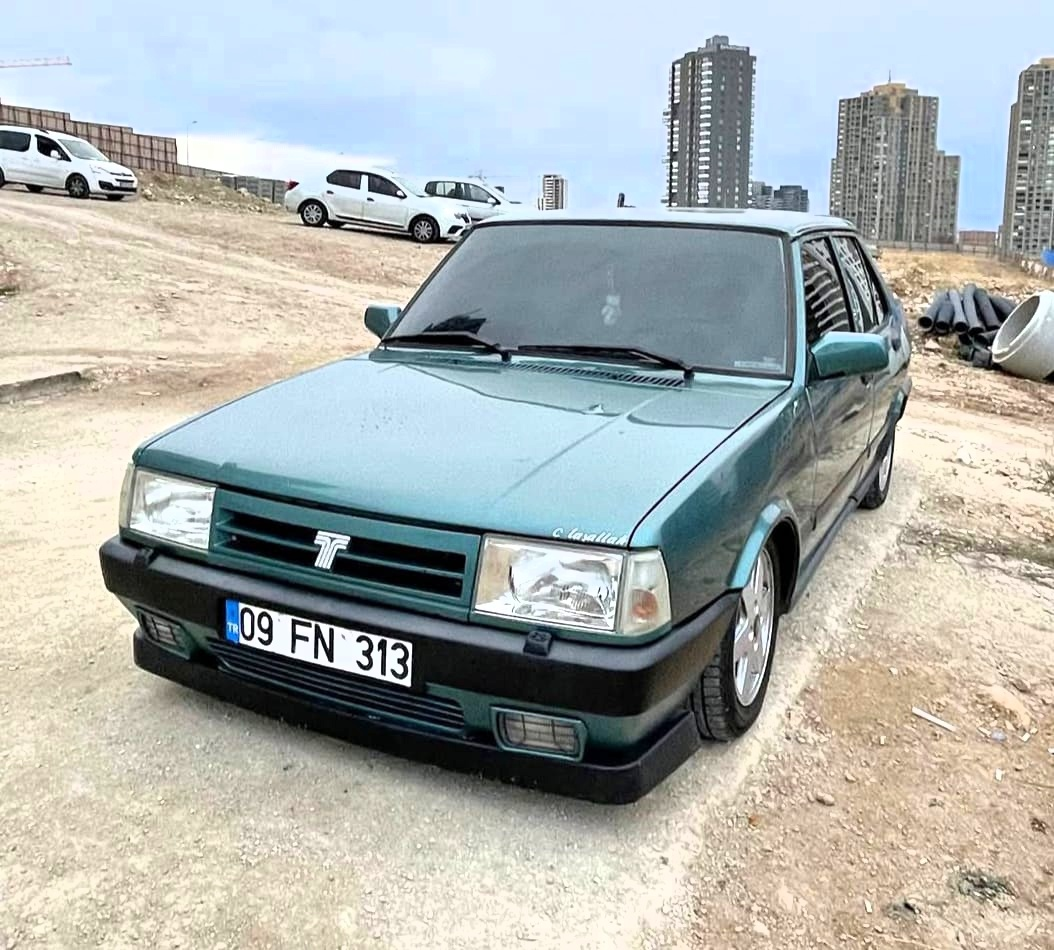plaka: (239, 587, 417, 689)
